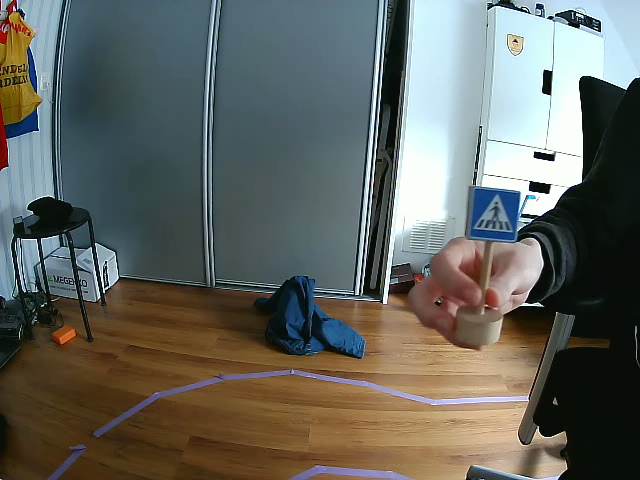zebrapad: (466, 187, 519, 242)
